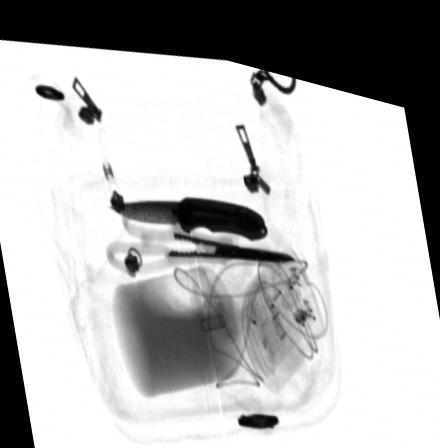Knife: (104, 185, 266, 229)
Scissors: (103, 198, 294, 270)
